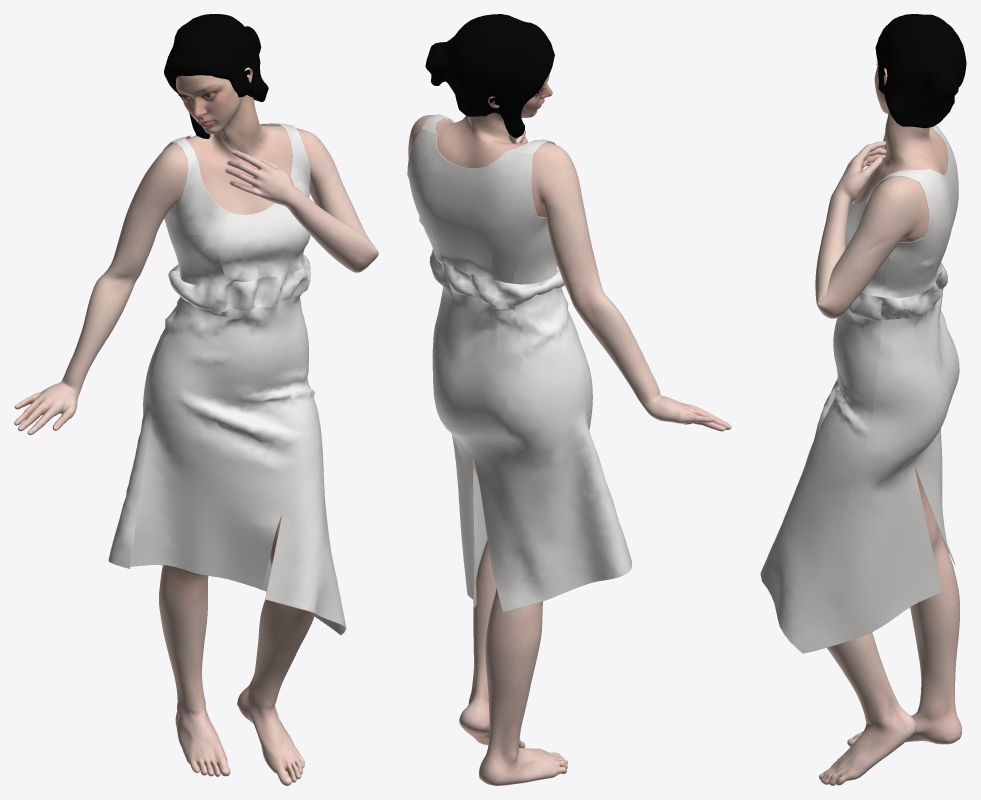
The model's file is Dramatic.obj.
3 renders of one model, left to right at view 1: azimuth 30°, elevation 25°; view 2: azimuth 150°, elevation 25°; view 3: azimuth 270°, elevation 25°, orthographic. The views are drawn at different scales.
Bounding box in the file's own units: 813 × 1767 × 441.
